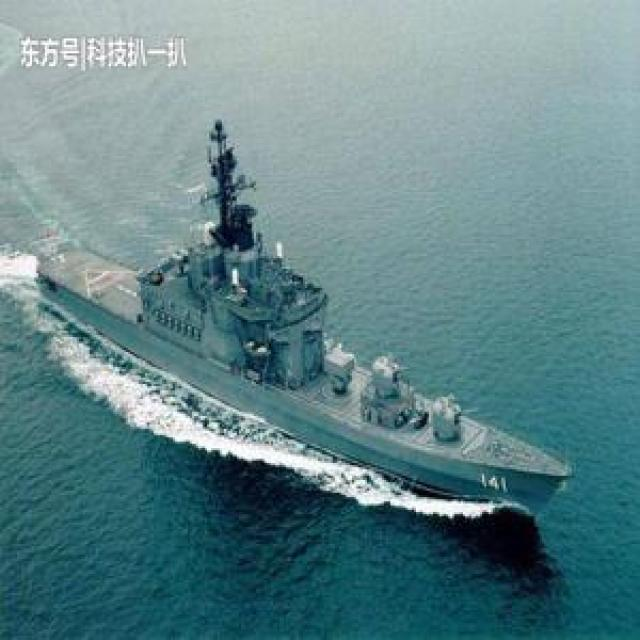navalvessels: (32, 126, 570, 510)
